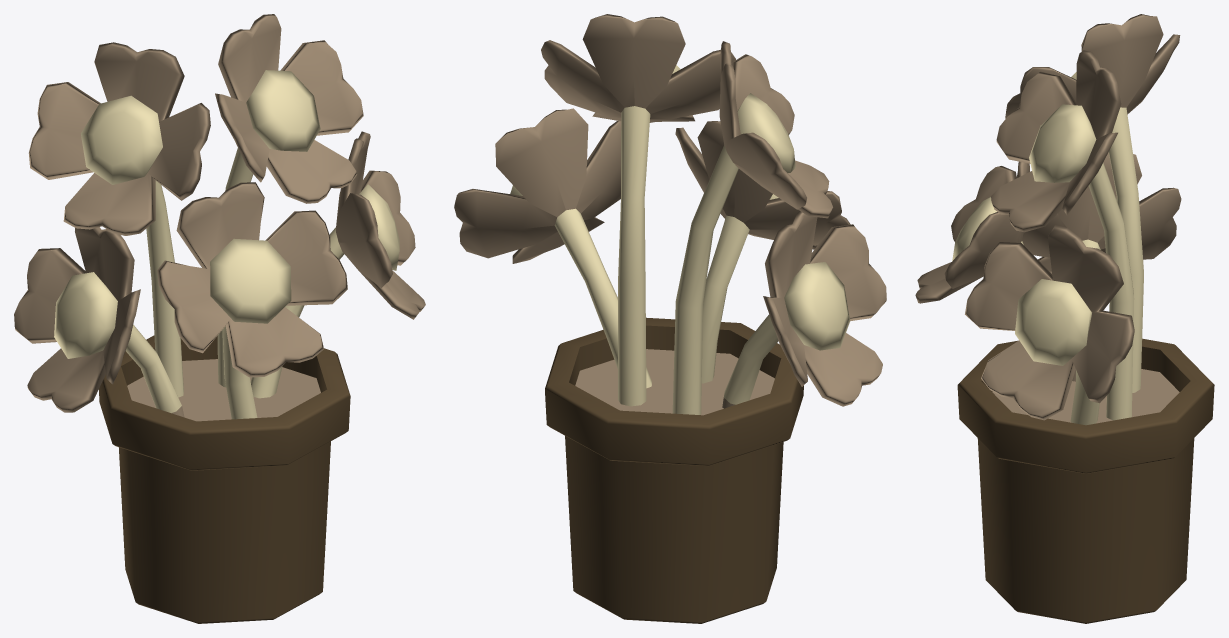
The model's file is FlowerPot_MDL.fbx.
3 views of the same model, side by side, from view 1: azimuth 30°, elevation 25°; view 2: azimuth 150°, elevation 25°; view 3: azimuth 270°, elevation 25° (orthographic). The views are drawn at different scales.
Parts seen in each view (by area): view 1: FlowerPot_GEO; view 2: FlowerPot_GEO; view 3: FlowerPot_GEO.
Part boxes in pixels (x1,y1,x2,y2): FlowerPot_GEO: (14, 14, 425, 623); FlowerPot_GEO: (454, 14, 886, 623); FlowerPot_GEO: (915, 14, 1214, 623).
Bounding box in the file's own units: 64.58 × 87.81 × 44.46.
